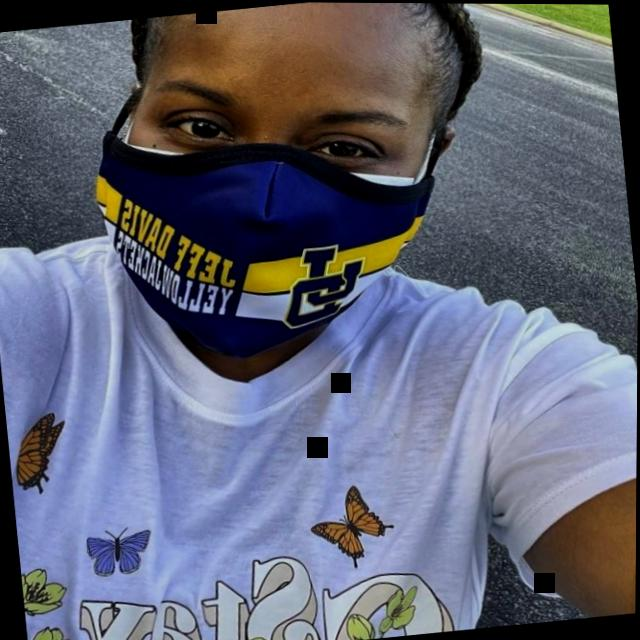Mask: (76, 7, 456, 373)
